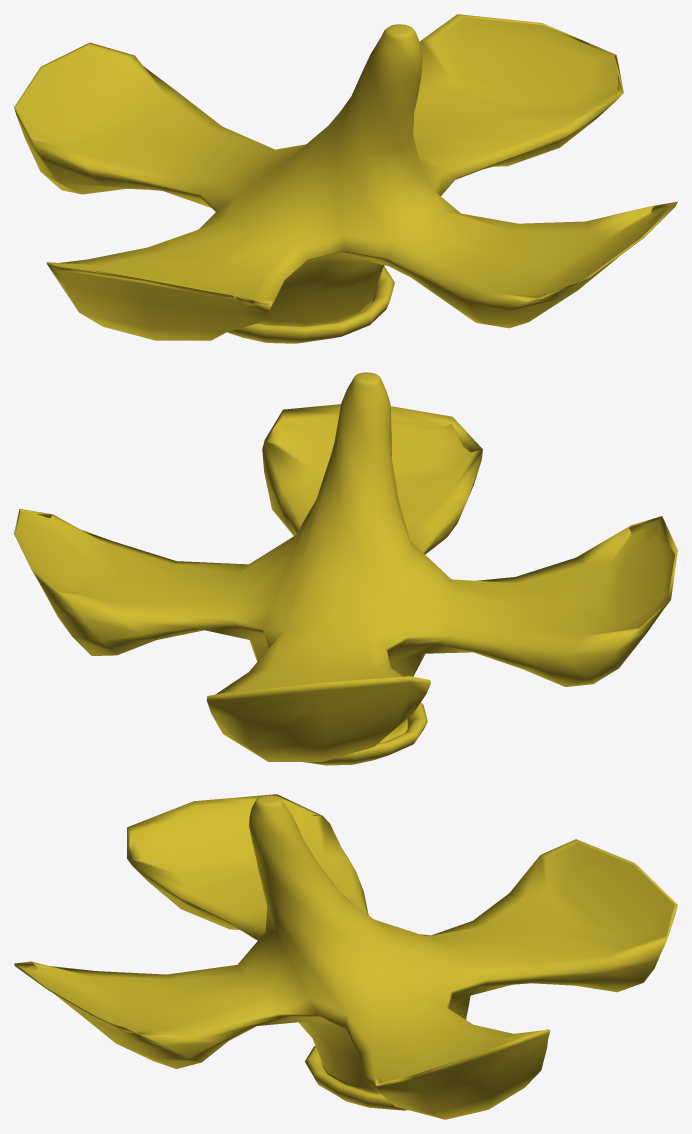
The model's file is cradleLoft1.obj.
3 renders of one model, top to bottom at view 1: azimuth 30°, elevation 25°; view 2: azimuth 150°, elevation 25°; view 3: azimuth 270°, elevation 25°, orthographic. The views are drawn at different scales.
Visible parts, largest first — view 1: Plane.008; view 2: Plane.008; view 3: Plane.008.
Part boxes in pixels (x1=…): Plane.008: x1=14, y1=14, x2=677, y2=343; Plane.008: x1=14, y1=372, x2=677, y2=765; Plane.008: x1=14, y1=794, x2=677, y2=1119.
Size of the model in its own units: 5.04 by 2.49 by 5.04.
